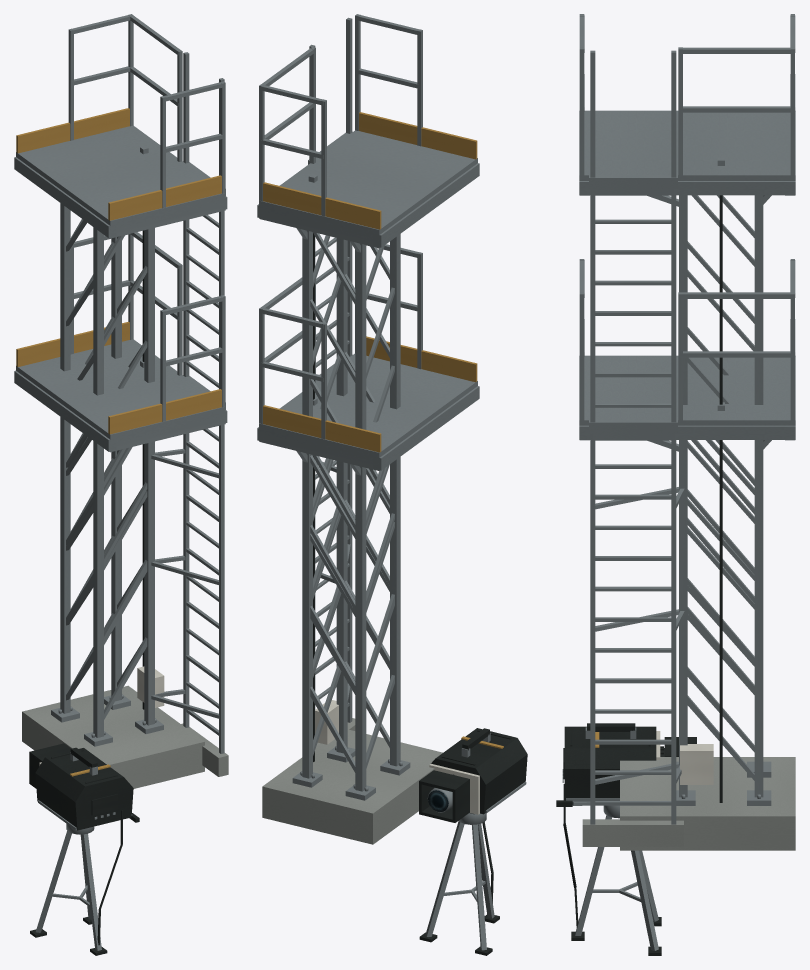
Rendered from aurel-broadcast-cameras.glb.
3 views of the same model, side by side, from view 1: azimuth 30°, elevation 25°; view 2: azimuth 150°, elevation 25°; view 3: azimuth 270°, elevation 25° (orthographic). The views are drawn at different scales.
Visible parts, largest first — view 1: A10_TOWER_HIGH_LOD0_SURFACES, A10_TOWER_HIGH_LOD1_SURFACES, A10_TOWER_LOW_LOD0_SURFACES, A10_TOWER_LOW_LOD1_SURFACES, A10_RAIN_LOD1_SURFACES, A10_DRY_LOD1_SURFACES, A10_DRY_LOD0_SURFACES, A10_RAIN_LOD0_SURFACES; view 2: A10_TOWER_HIGH_LOD0_SURFACES, A10_TOWER_HIGH_LOD1_SURFACES, A10_TOWER_LOW_LOD0_SURFACES, A10_TOWER_LOW_LOD1_SURFACES, A10_DRY_LOD0_SURFACES, A10_RAIN_LOD0_SURFACES, A10_DRY_LOD1_SURFACES, A10_RAIN_LOD1_SURFACES, A10_DRY_LOD2_SURFACES; view 3: A10_TOWER_HIGH_LOD0_SURFACES, A10_TOWER_HIGH_LOD1_SURFACES, A10_TOWER_LOW_LOD0_SURFACES, A10_TOWER_LOW_LOD1_SURFACES, A10_RAIN_LOD0_SURFACES, A10_DRY_LOD1_SURFACES, A10_DRY_LOD0_SURFACES, A10_RAIN_LOD1_SURFACES.
Part boxes in pixels (x1,y1,x2,y2): A10_TOWER_HIGH_LOD0_SURFACES: (14, 14, 227, 786); A10_TOWER_HIGH_LOD1_SURFACES: (16, 14, 228, 788); A10_TOWER_LOW_LOD0_SURFACES: (14, 232, 227, 753); A10_TOWER_LOW_LOD1_SURFACES: (16, 232, 225, 753); A10_RAIN_LOD1_SURFACES: (35, 748, 133, 830); A10_DRY_LOD1_SURFACES: (29, 743, 139, 955); A10_DRY_LOD0_SURFACES: (30, 749, 139, 952); A10_RAIN_LOD0_SURFACES: (36, 749, 132, 830); A10_TOWER_HIGH_LOD0_SURFACES: (257, 14, 479, 840); A10_TOWER_HIGH_LOD1_SURFACES: (259, 14, 477, 844); A10_TOWER_LOW_LOD0_SURFACES: (257, 244, 479, 791); A10_TOWER_LOW_LOD1_SURFACES: (259, 244, 477, 786); A10_DRY_LOD0_SURFACES: (419, 729, 497, 954); A10_RAIN_LOD0_SURFACES: (432, 728, 526, 812); A10_DRY_LOD1_SURFACES: (419, 728, 499, 955); A10_RAIN_LOD1_SURFACES: (431, 728, 527, 814); A10_DRY_LOD2_SURFACES: (429, 763, 479, 814); A10_TOWER_HIGH_LOD0_SURFACES: (579, 14, 795, 847); A10_TOWER_HIGH_LOD1_SURFACES: (579, 14, 795, 850); A10_TOWER_LOW_LOD0_SURFACES: (579, 259, 795, 774); A10_TOWER_LOW_LOD1_SURFACES: (579, 259, 795, 824); A10_RAIN_LOD0_SURFACES: (565, 727, 655, 801); A10_DRY_LOD1_SURFACES: (556, 723, 696, 955); A10_DRY_LOD0_SURFACES: (557, 724, 690, 954); A10_RAIN_LOD1_SURFACES: (564, 726, 656, 800).
Size of the model in its own units: 1.61 by 7.84 by 1.77.
Materials: 1 (1 with a texture image).
